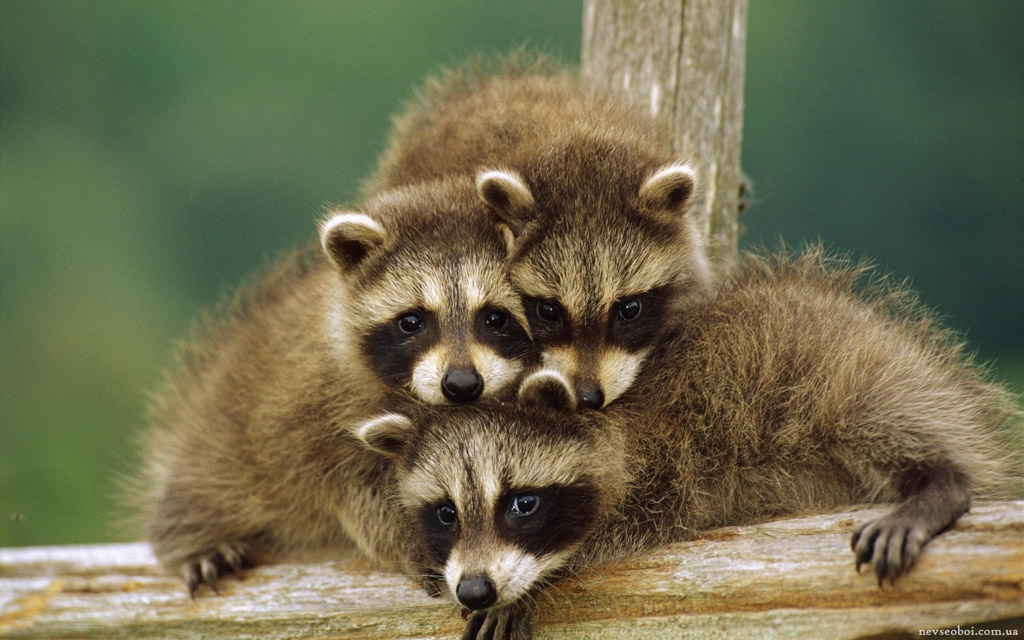raccoon: (375, 257, 1024, 611), (130, 172, 526, 600), (357, 52, 715, 421)
